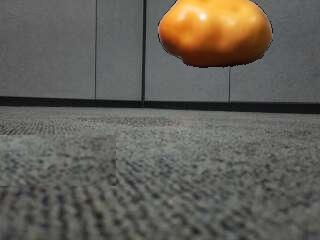Potato: (157, 0, 274, 69)
